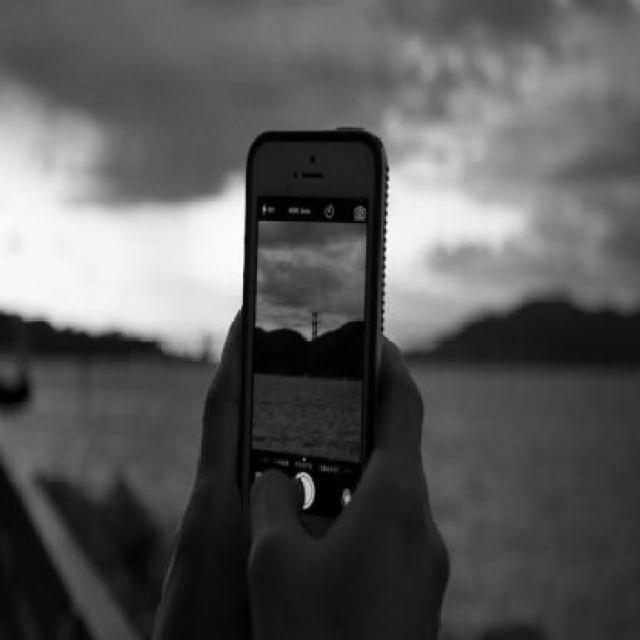fake: (222, 128, 400, 560)
